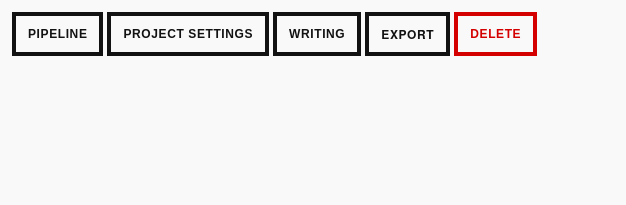
Test: ProjectActions › export › reports a failed marker export without leaving the page
This screenshot has width=626, height=205.
What coordinates should you click on to do the following:
click the link "Export"
I would click on:
 (408, 34)
Its box is top-left (365, 12), bottom-right (450, 56).
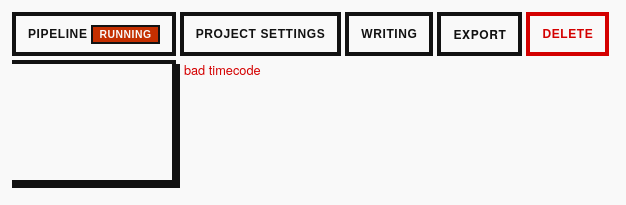
Expected: the message shows "Could not export the markers", top-left (12, 60), bottom-right (180, 79)
Expected: the message shows "bad timecode", top-left (184, 60), bottom-right (261, 79)
